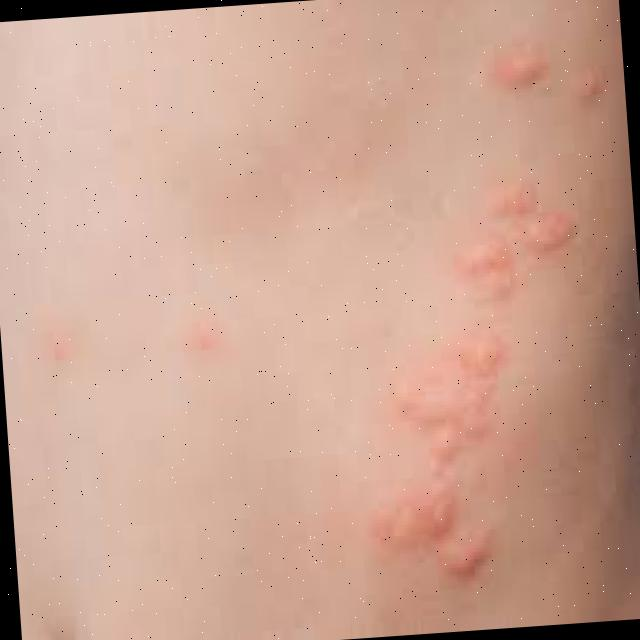tahta-kurusu: (351, 319, 549, 596), (437, 212, 528, 304), (466, 20, 556, 100), (550, 57, 617, 142), (472, 161, 547, 234), (526, 192, 595, 270)
